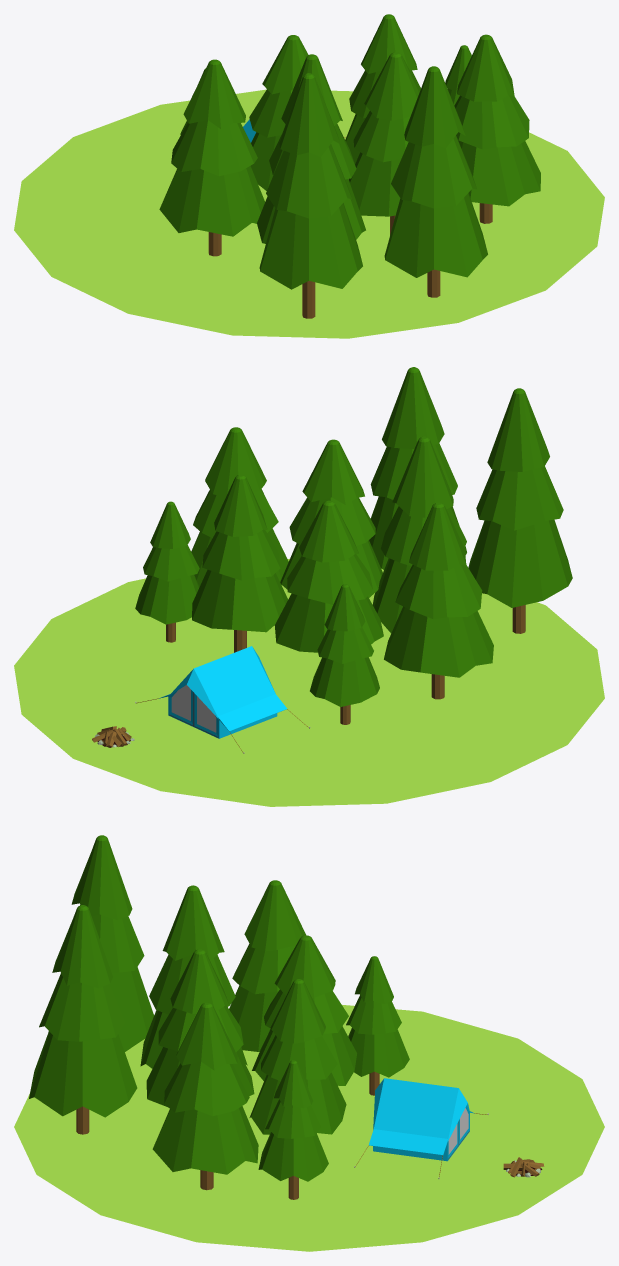
The model's file is camping.glb.
3 views of the same model, one above another, from view 1: azimuth 30°, elevation 25°; view 2: azimuth 150°, elevation 25°; view 3: azimuth 270°, elevation 25° (orthographic).
Parts seen in each view (by area): view 1: Circle.010, Circle.005, Circle.012, Circle.007, Circle.006, Circle.009, Circle.001, Circle.008, Circle, Circle.013, Cylinder.006; view 2: Circle.010, Circle.005, Circle.007, Circle, Circle.001, Circle.008, Circle.012, Cylinder.002, Circle.009, Circle.018, Circle.013, Circle.006 (+1 smaller); view 3: Circle.010, Circle.012, Circle.006, Circle.005, Circle, Cylinder.002, Circle.007, Circle.009, Circle.008, Circle.013, Circle.001, Circle.018.
Boxes of the visible parts, left/top/right/bottom form: Circle.010: left=14, top=89, right=604, bottom=338; Circle.005: left=259, top=73, right=362, bottom=289; Circle.012: left=384, top=66, right=487, bottom=277; Circle.007: left=159, top=59, right=264, bottom=236; Circle.006: left=454, top=34, right=540, bottom=206; Circle.009: left=348, top=52, right=420, bottom=216; Circle.001: left=249, top=35, right=308, bottom=190; Circle.008: left=257, top=54, right=365, bottom=243; Circle: left=345, top=14, right=420, bottom=163; Circle.013: left=445, top=45, right=471, bottom=105; Cylinder.006: left=302, top=281, right=315, bottom=318; Circle.010: left=14, top=558, right=604, bottom=806; Circle.005: left=468, top=388, right=572, bottom=607; Circle.007: left=384, top=502, right=493, bottom=677; Circle: left=192, top=474, right=288, bottom=632; Circle.001: left=274, top=500, right=383, bottom=652; Circle.008: left=372, top=436, right=466, bottom=633; Circle.012: left=369, top=367, right=466, bottom=569; Cylinder.002: left=159, top=646, right=287, bottom=738; Circle.009: left=280, top=439, right=382, bottom=597; Circle.018: left=310, top=584, right=379, bottom=706; Circle.013: left=135, top=501, right=199, bottom=624; Circle.006: left=191, top=427, right=288, bottom=586; Circle.010: left=14, top=1005, right=604, bottom=1251; Circle.012: left=29, top=905, right=137, bottom=1117; Circle.006: left=152, top=1002, right=258, bottom=1174; Circle.005: left=71, top=835, right=153, bottom=1051; Circle: left=249, top=979, right=346, bottom=1134; Cylinder.002: left=369, top=1078, right=474, bottom=1161; Circle.007: left=229, top=880, right=305, bottom=1051; Circle.009: left=146, top=949, right=254, bottom=1106; Circle.008: left=140, top=885, right=247, bottom=1068; Circle.013: left=258, top=1060, right=328, bottom=1181; Circle.001: left=252, top=935, right=356, bottom=1085; Circle.018: left=346, top=956, right=409, bottom=1077.
Size of the model in its own units: 7.28 by 3.27 by 7.28.
